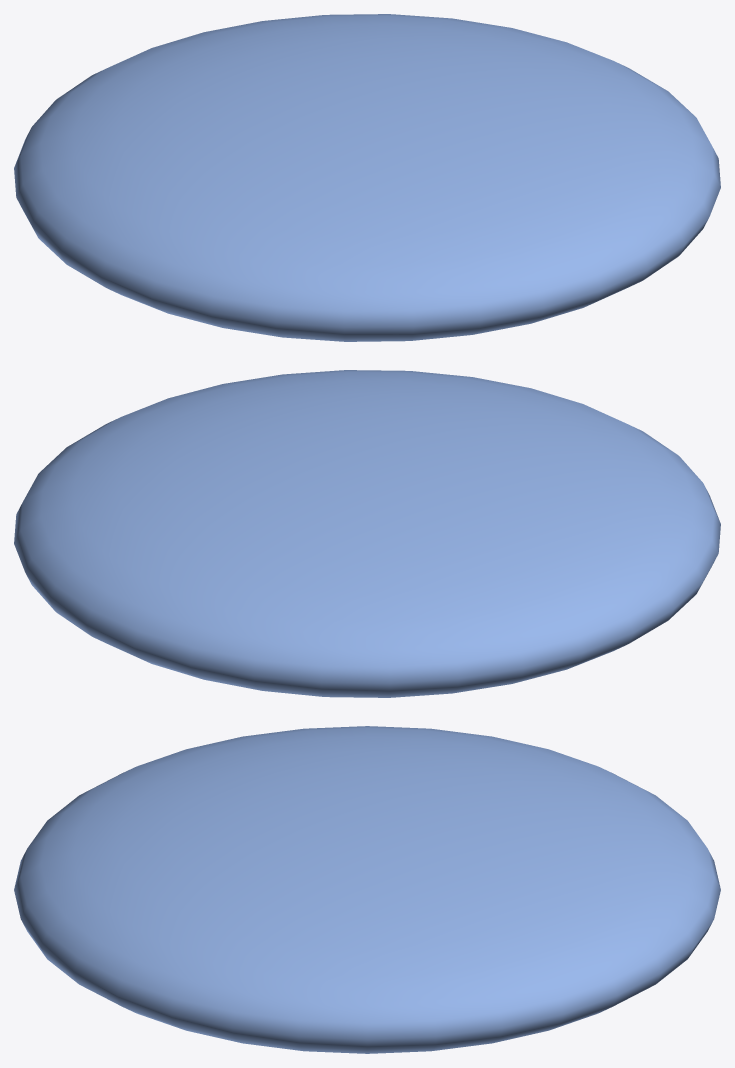
The model's file is PlatilloVolador.glb.
3 renders of one model, top to bottom at view 1: azimuth 30°, elevation 25°; view 2: azimuth 150°, elevation 25°; view 3: azimuth 270°, elevation 25°, orthographic.
Parts seen in each view (by area): view 1: Esfera; view 2: Esfera; view 3: Esfera.
Boxes of the visible parts, bbox=[...] form: Esfera: bbox=[14, 14, 720, 341]; Esfera: bbox=[14, 370, 720, 697]; Esfera: bbox=[14, 726, 720, 1053].
Size of the model in its own units: 2 by 0.4198 by 2.
